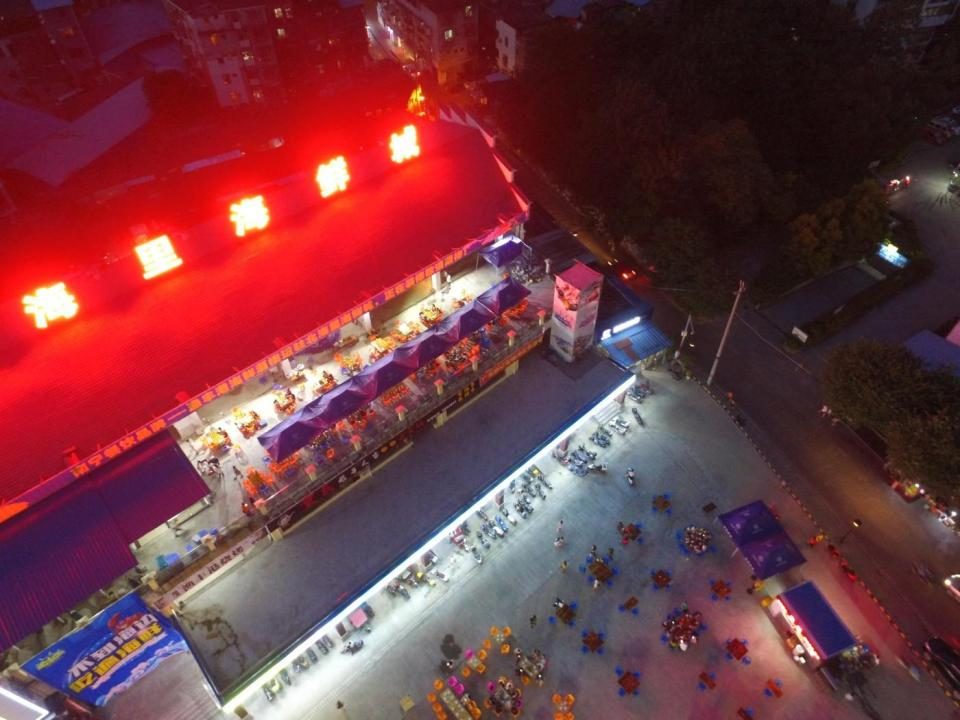car: (921, 635, 960, 689), (607, 259, 636, 282), (916, 125, 946, 144), (941, 574, 960, 603), (934, 115, 960, 135)
van: (928, 120, 955, 139)
